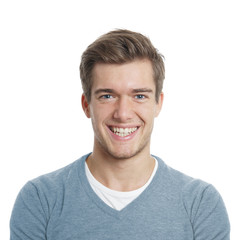young: (76, 22, 171, 160)
